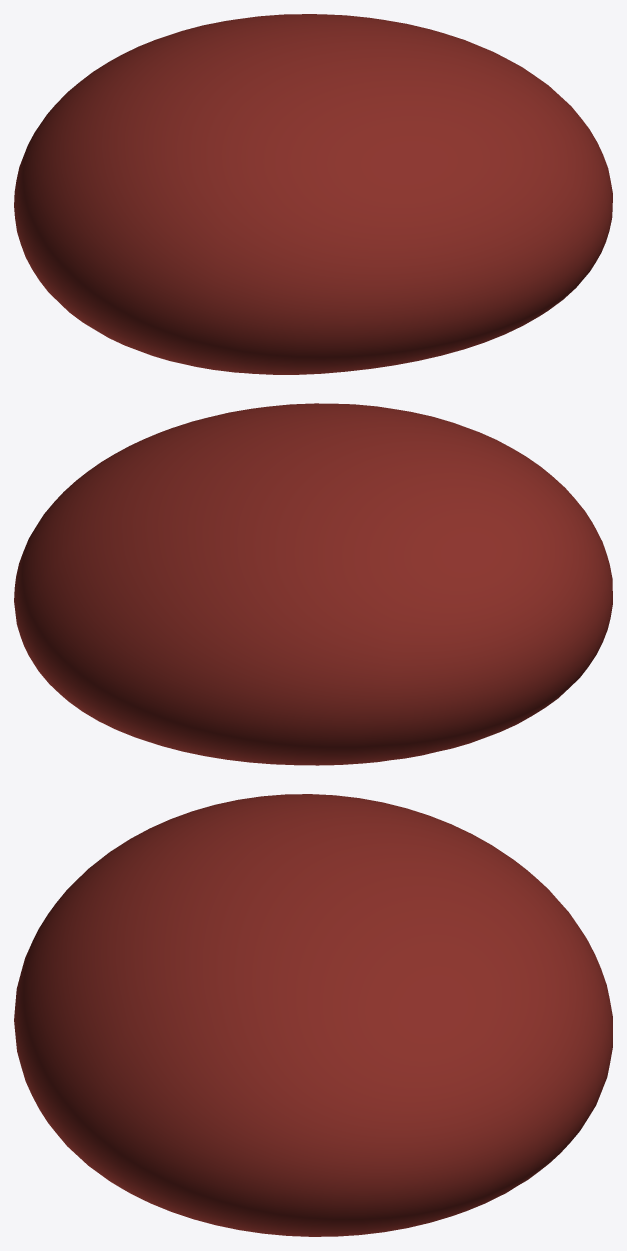
Rendered from stone_4.fbx.
3 views of the same model, one above another, from view 1: azimuth 30°, elevation 25°; view 2: azimuth 150°, elevation 25°; view 3: azimuth 270°, elevation 25° (orthographic). The views are drawn at different scales.
Visible parts, largest first — view 1: stone_4; view 2: stone_4; view 3: stone_4.
Boxes of the visible parts, x1=… form: stone_4: x1=14, y1=14, x2=612, y2=374; stone_4: x1=14, y1=403, x2=612, y2=765; stone_4: x1=14, y1=794, x2=612, y2=1236.
Size of the model in its own units: 46.57 by 22.26 by 41.97.
